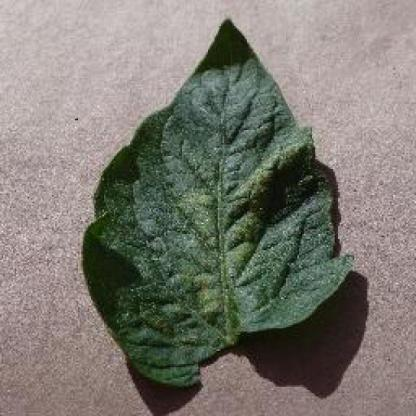Tomato_Spider_Mites: (87, 19, 355, 383)
